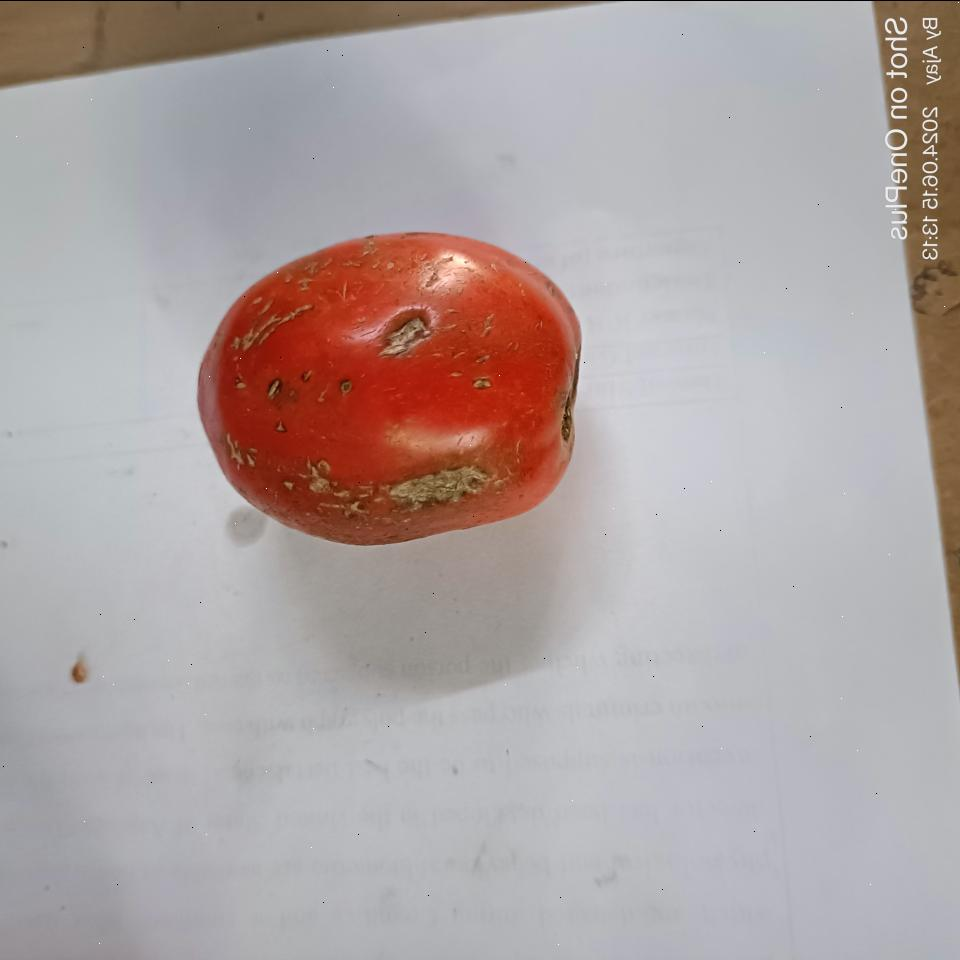Bacterial_Spot: (281, 457, 505, 519), (372, 308, 440, 356), (264, 374, 286, 403), (470, 372, 494, 394), (334, 374, 358, 395), (228, 372, 246, 394), (272, 418, 292, 436), (296, 369, 314, 382)
